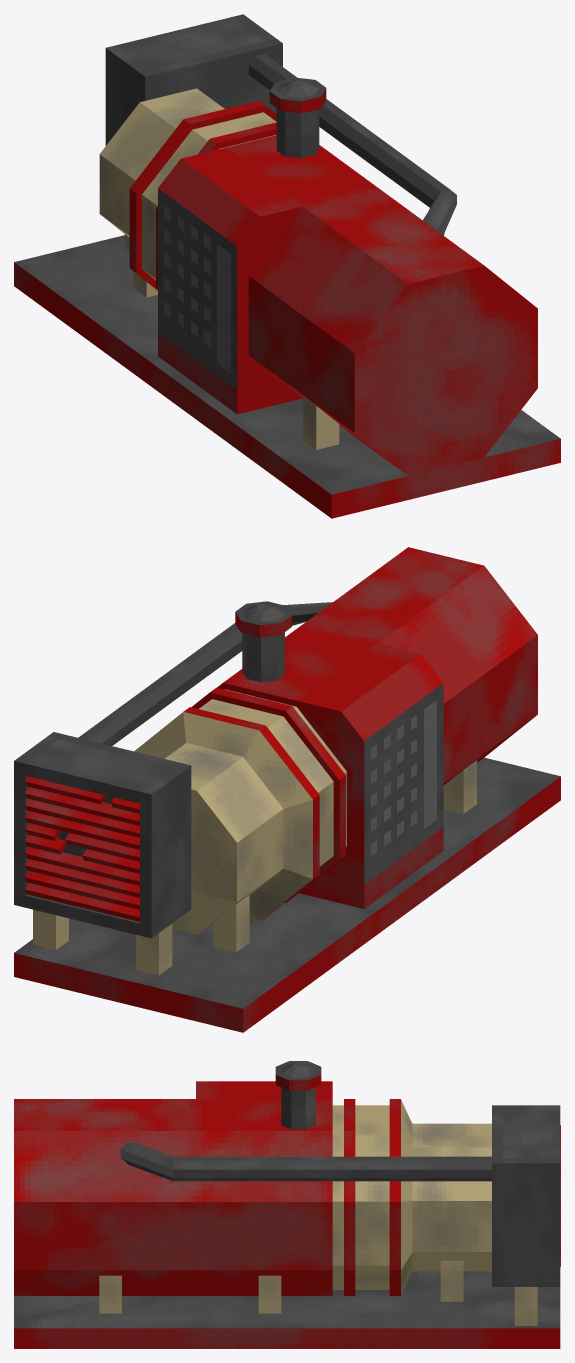
Rendered from Large Power Generator (old Style).gltf.
3 views of the same model, one above another, from view 1: azimuth 30°, elevation 25°; view 2: azimuth 150°, elevation 25°; view 3: azimuth 270°, elevation 25° (orthographic). The views are drawn at different scales.
Visible parts, largest first — view 1: cylinder (×9), cuboid (×8); view 2: cuboid (×23), cylinder (×10); view 3: cylinder (×12), cuboid (×9).
Part boxes in pixels (<box>): cylinder (×9): <box>99,54,537,475</box>; cuboid (×8): <box>14,17,560,518</box>; cuboid (×23): <box>14,643,560,1032</box>; cylinder (×10): <box>78,547,537,934</box>; cylinder (×12): <box>14,1061,491,1295</box>; cuboid (×9): <box>14,1081,560,1348</box>.
Bounding box in the file's own units: 0.625 × 0.7344 × 1.5.
1 material, 1 textured.
